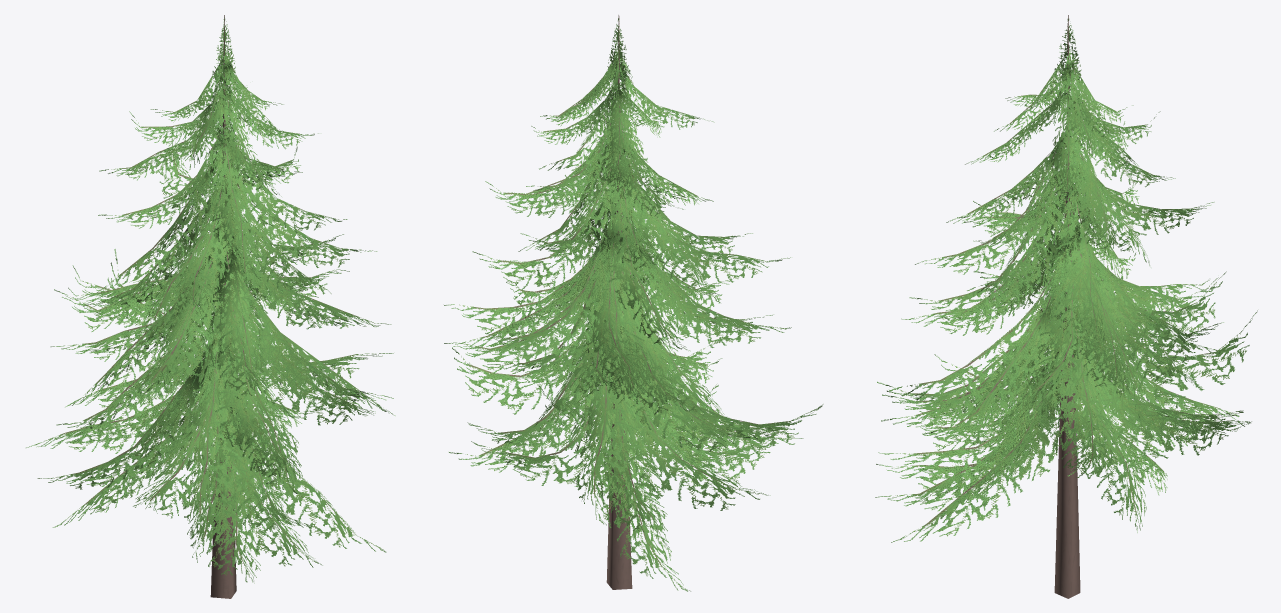
The model's file is tree_Pine_L2_LOD1.fbx.
The picture shows the model from 3 angles, left to right: view 1: azimuth 30°, elevation 25°; view 2: azimuth 150°, elevation 25°; view 3: azimuth 270°, elevation 25°; orthographic projection.
Visible parts, largest first — view 1: Pine_L2_LOD1; view 2: Pine_L2_LOD1; view 3: Pine_L2_LOD1.
Part boxes in pixels (x1,y1,x2,y2): Pine_L2_LOD1: [26, 15, 395, 598]; Pine_L2_LOD1: [444, 15, 823, 591]; Pine_L2_LOD1: [875, 15, 1257, 598].
Bounding box in the file's own units: 1304 × 2010 × 1271.
